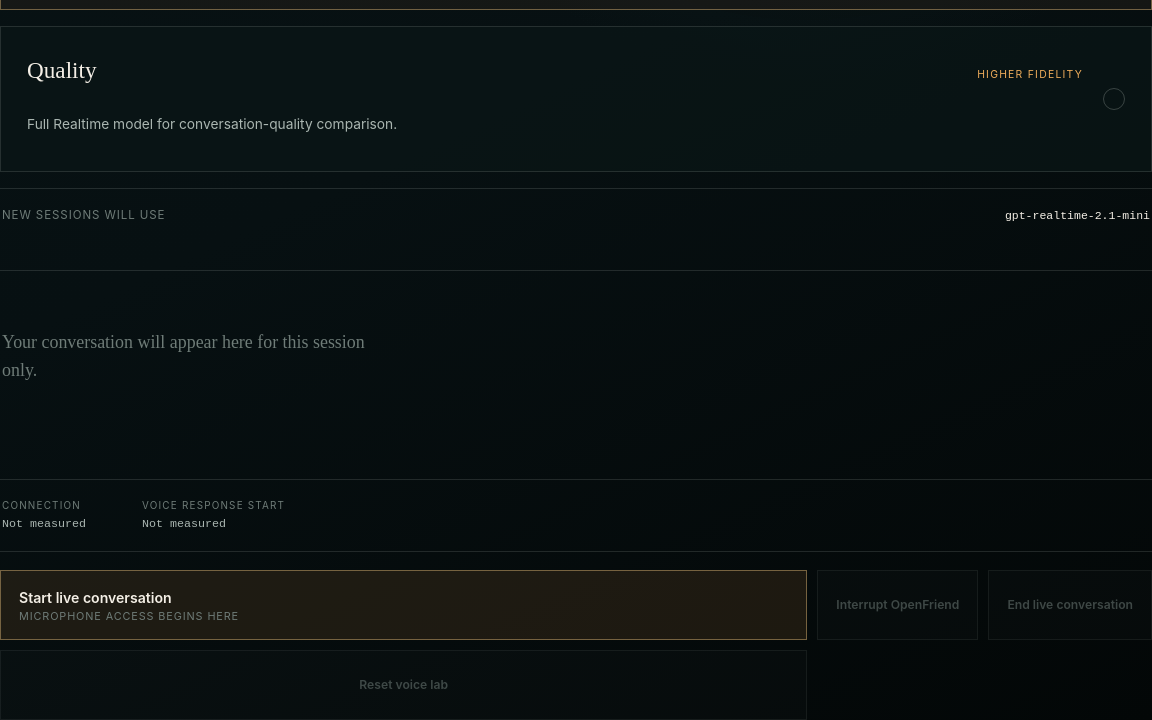
Test case: LiveConversationLab › fails and closes a session when connection negotiation never settles
The width and height of the screenshot is (1152, 720).
(page scrolled)
What coordinates should you click on to do the following:
click the button "Start live conversation Microphone access begins here"
I would click on:
 (95, 597)
Its box is [0, 570, 807, 640].
(page scrolled)
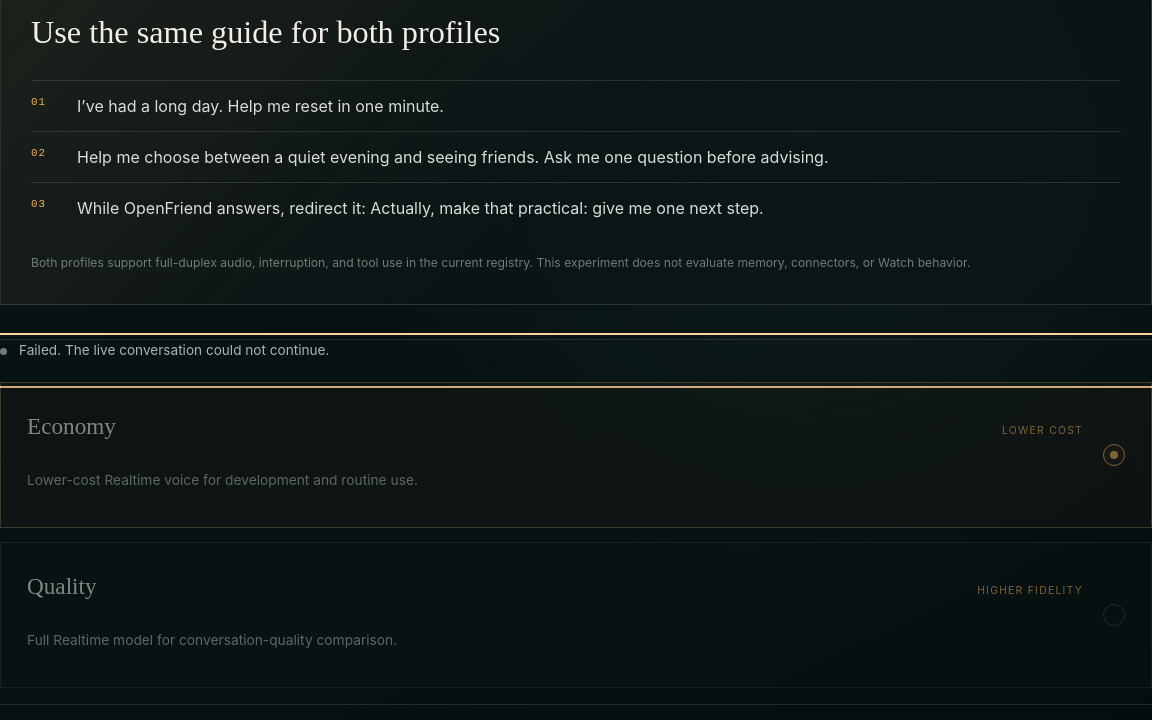
Expected: the message shows "Failed", [19, 342, 329, 358]
